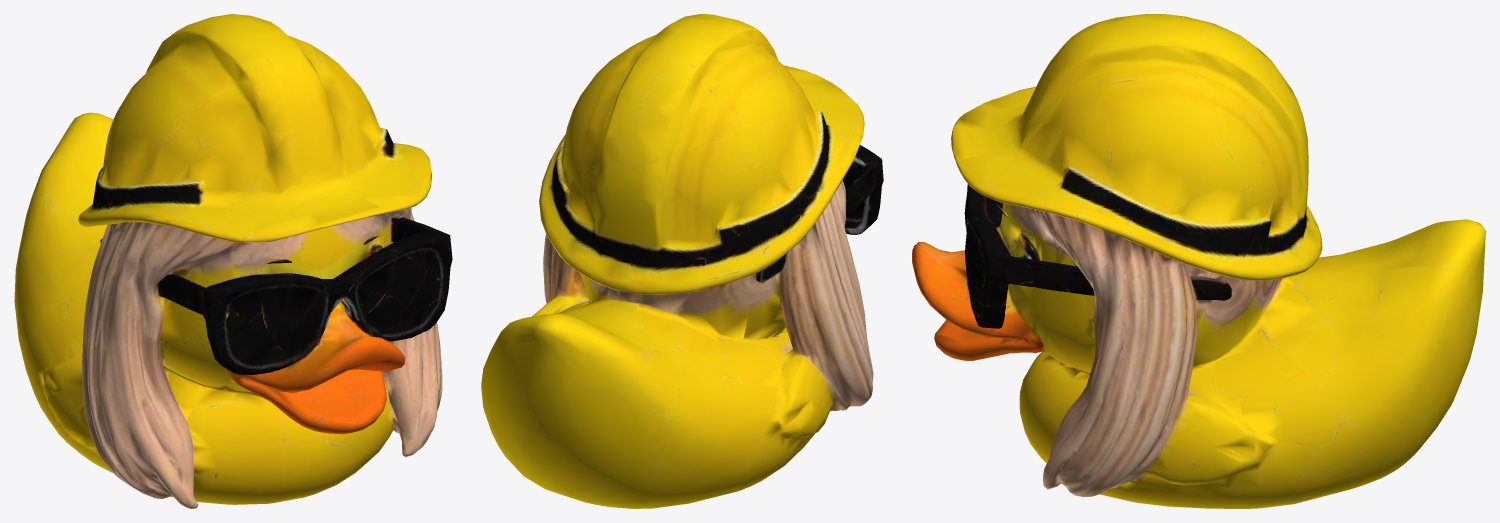
The model's file is duck.glb.
3 views of the same model, side by side, from view 1: azimuth 30°, elevation 25°; view 2: azimuth 150°, elevation 25°; view 3: azimuth 270°, elevation 25° (orthographic). The views are drawn at different scales.
Visible parts, largest first — view 1: mesh_0; view 2: mesh_0; view 3: mesh_0.
Boxes of the visible parts, box(x1,y1,x2,y2) form: mesh_0: box(14, 14, 452, 508); mesh_0: box(481, 14, 883, 508); mesh_0: box(912, 14, 1485, 508).
Size of the model in its own units: 1.3 by 1.59 by 1.9.
Materials: 1 (1 with a texture image).
